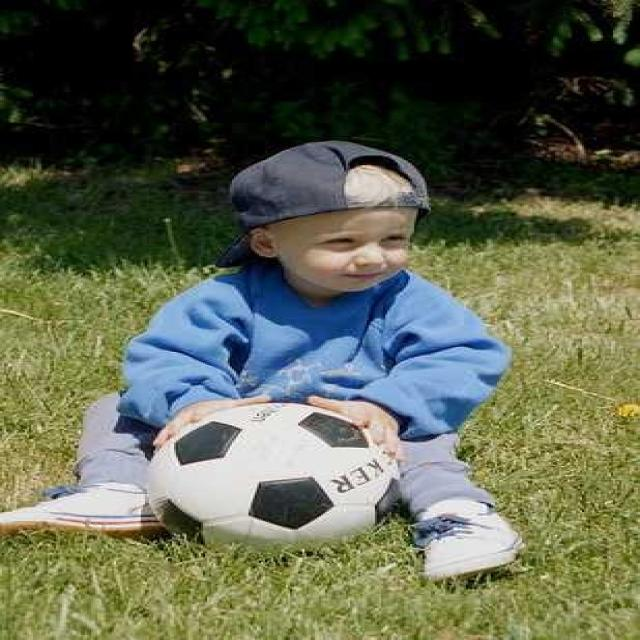ball: (145, 402, 397, 558)
